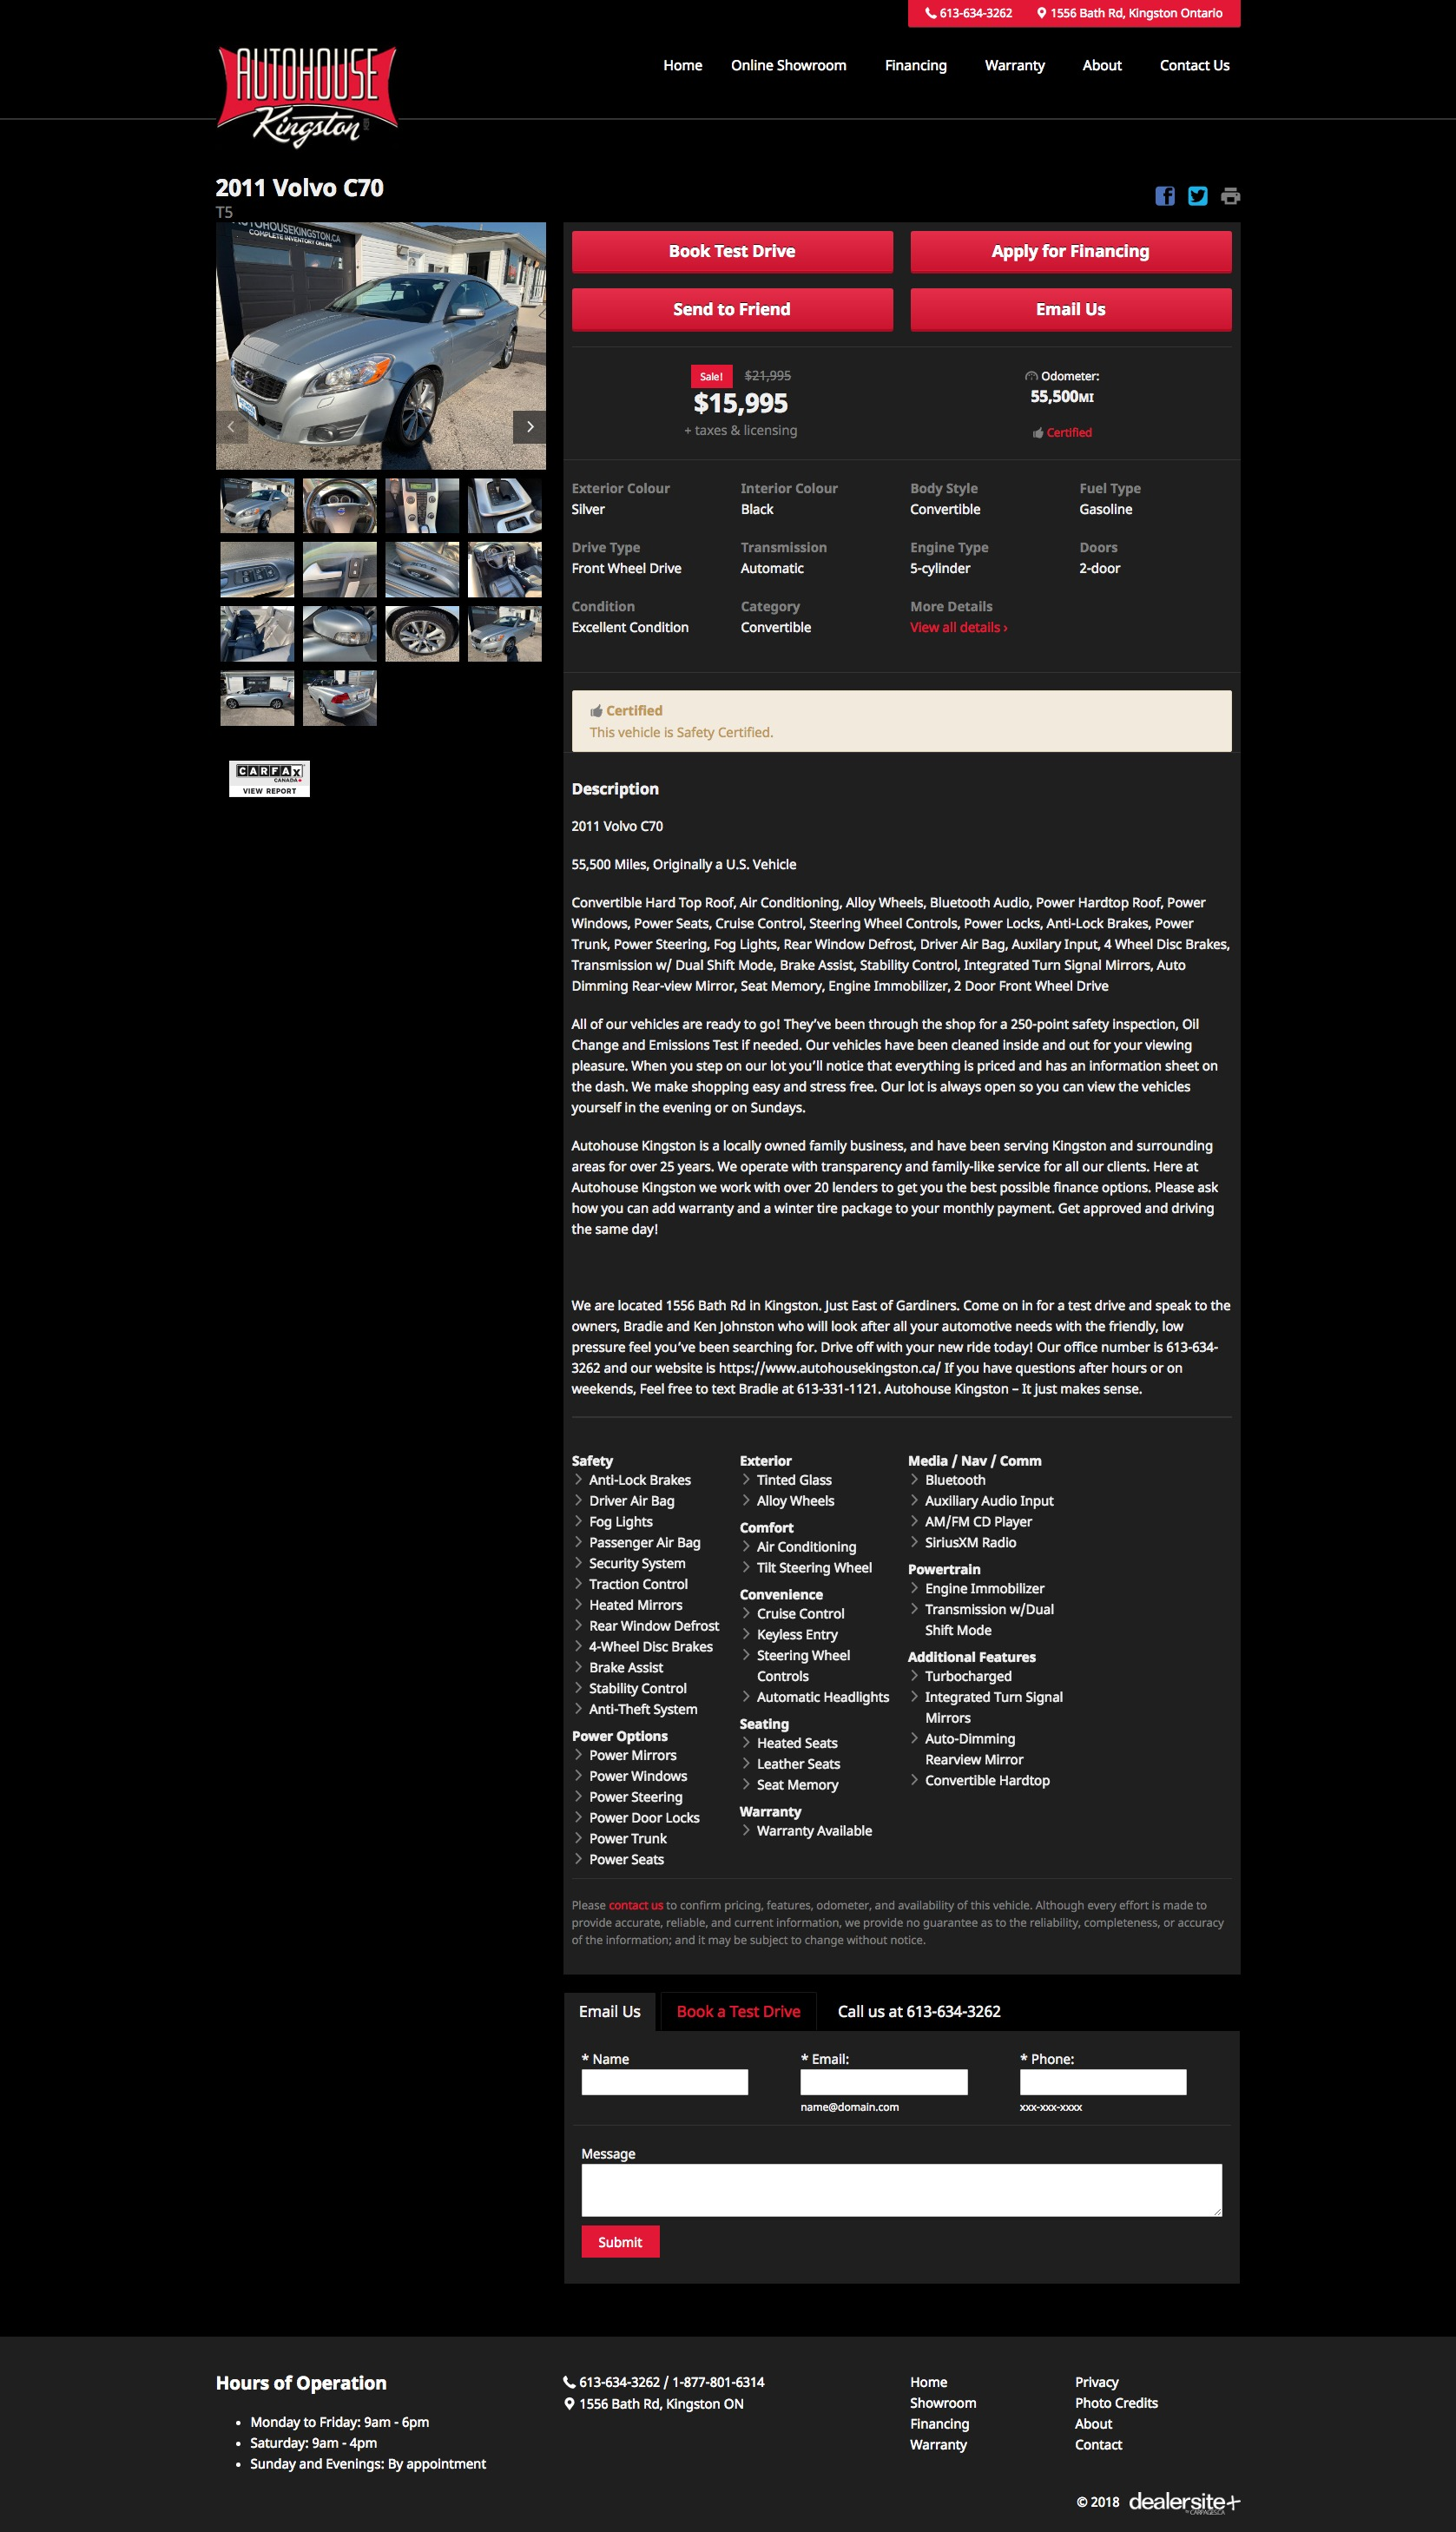car: (511, 410, 548, 447)
